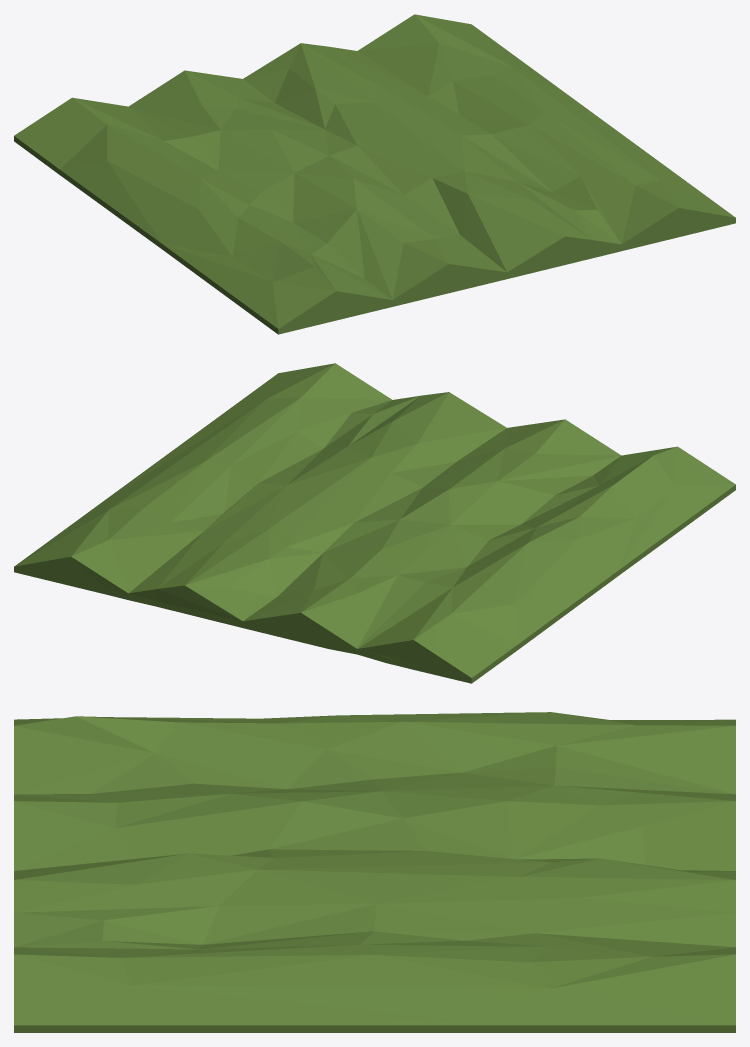
Rendered from Mud_05.fbx.
3 views of the same model, one above another, from view 1: azimuth 30°, elevation 25°; view 2: azimuth 150°, elevation 25°; view 3: azimuth 270°, elevation 25° (orthographic). The views are drawn at different scales.
Visible parts, largest first — view 1: Mud_05; view 2: Mud_05; view 3: Mud_05.
Part boxes in pixels (x1,y1,x2,y2): Mud_05: [14, 14, 735, 334]; Mud_05: [14, 363, 735, 683]; Mud_05: [14, 712, 735, 1032].
Size of the model in its own units: 4 by 0.3137 by 4.
